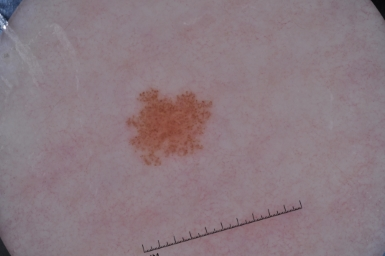melanoma: (124, 86, 215, 172)
